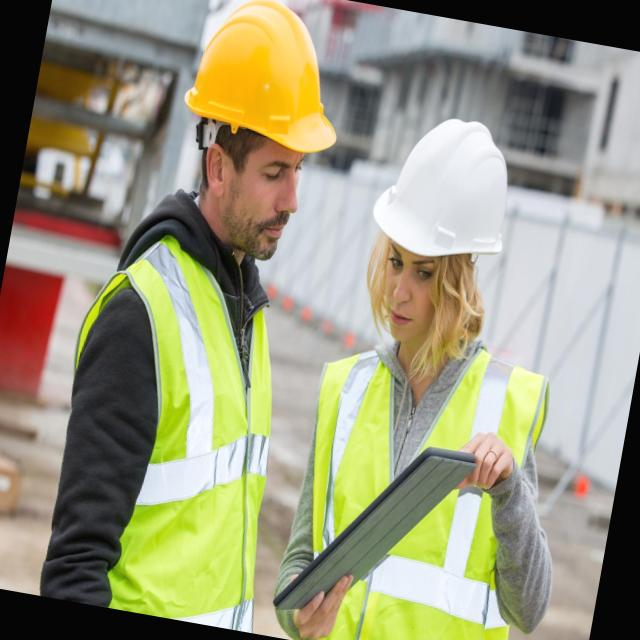helmet: (170, 0, 361, 180), (358, 96, 526, 272)
vest: (50, 212, 305, 630), (278, 302, 548, 640)
